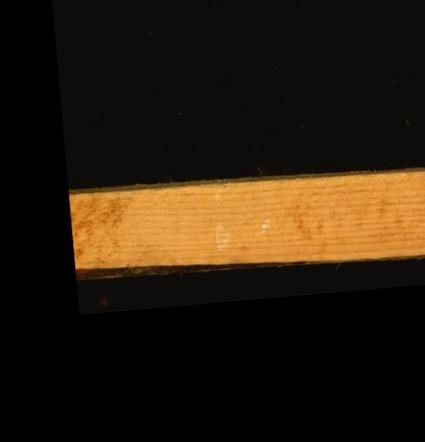wave: (74, 255, 300, 276)
